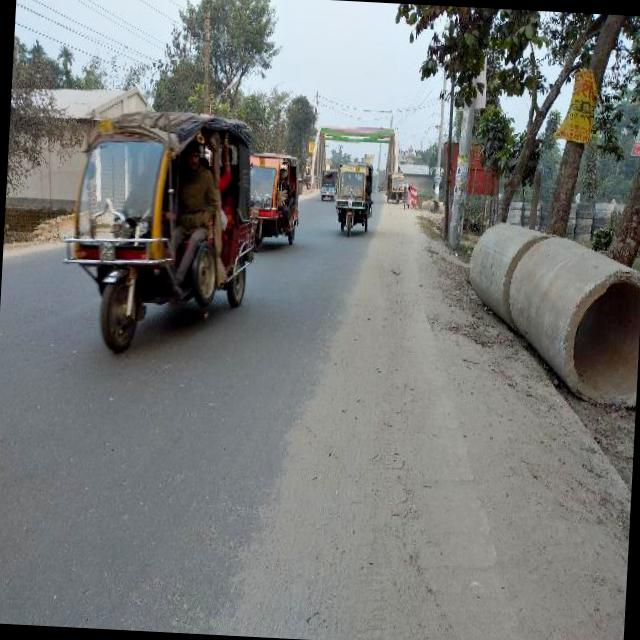motorcycle: (53, 101, 257, 362), (243, 143, 302, 256), (332, 162, 376, 240), (318, 166, 336, 201), (384, 170, 402, 204)
